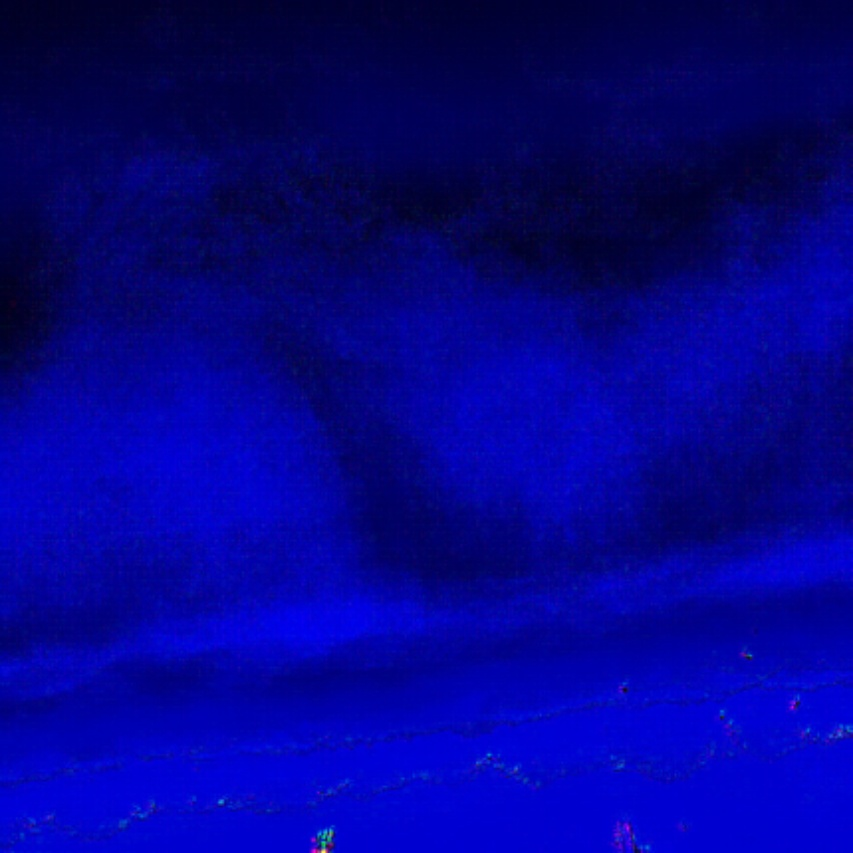rip_current: (224, 222, 512, 600)
